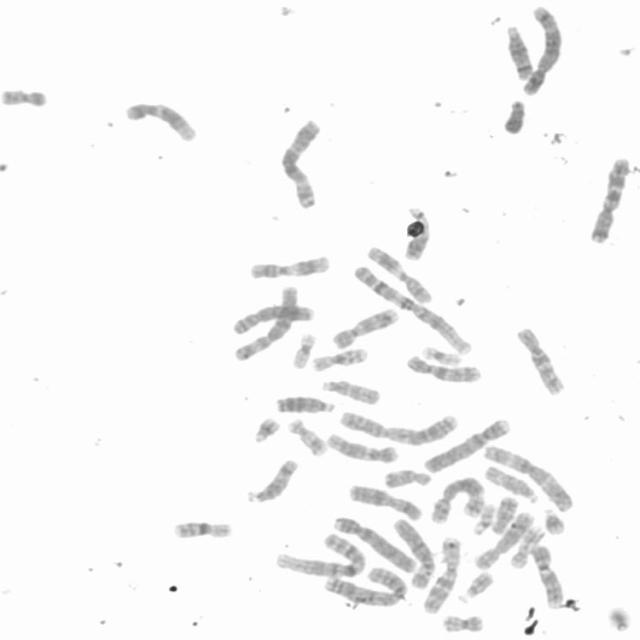A1: (350, 262, 473, 358), (273, 531, 369, 579)
A2: (335, 408, 460, 447), (320, 564, 409, 608)
A3: (481, 442, 575, 513), (276, 116, 324, 210)
B4: (328, 513, 420, 575), (420, 415, 511, 475)
B5: (517, 2, 563, 96), (426, 474, 486, 524)
C10: (514, 324, 566, 396), (402, 352, 483, 384)
C11: (364, 242, 434, 304), (245, 252, 332, 281)
C12: (120, 99, 200, 144), (324, 430, 399, 464)
C6: (230, 282, 300, 363), (390, 515, 438, 591)
C7: (586, 154, 630, 244), (420, 536, 463, 615)
C8: (471, 509, 534, 570), (229, 301, 314, 336)
C9: (330, 306, 400, 350), (528, 543, 565, 608)
D13: (401, 207, 433, 262), (272, 392, 336, 416)
D14: (243, 456, 300, 506), (502, 23, 535, 82)
D15: (481, 462, 540, 504), (319, 376, 382, 406)
E16: (309, 344, 369, 373), (170, 517, 234, 540)
E17: (507, 524, 545, 570), (286, 416, 328, 457)
E18: (489, 494, 519, 535), (382, 466, 432, 489)
F19: (289, 330, 317, 370), (419, 344, 462, 368)
F20: (0, 85, 50, 108), (438, 612, 486, 634)
G21: (250, 415, 281, 444), (540, 505, 568, 537)
G22: (455, 569, 495, 604), (471, 501, 496, 536)
X: (345, 482, 423, 522)
Y: (498, 96, 528, 136)
